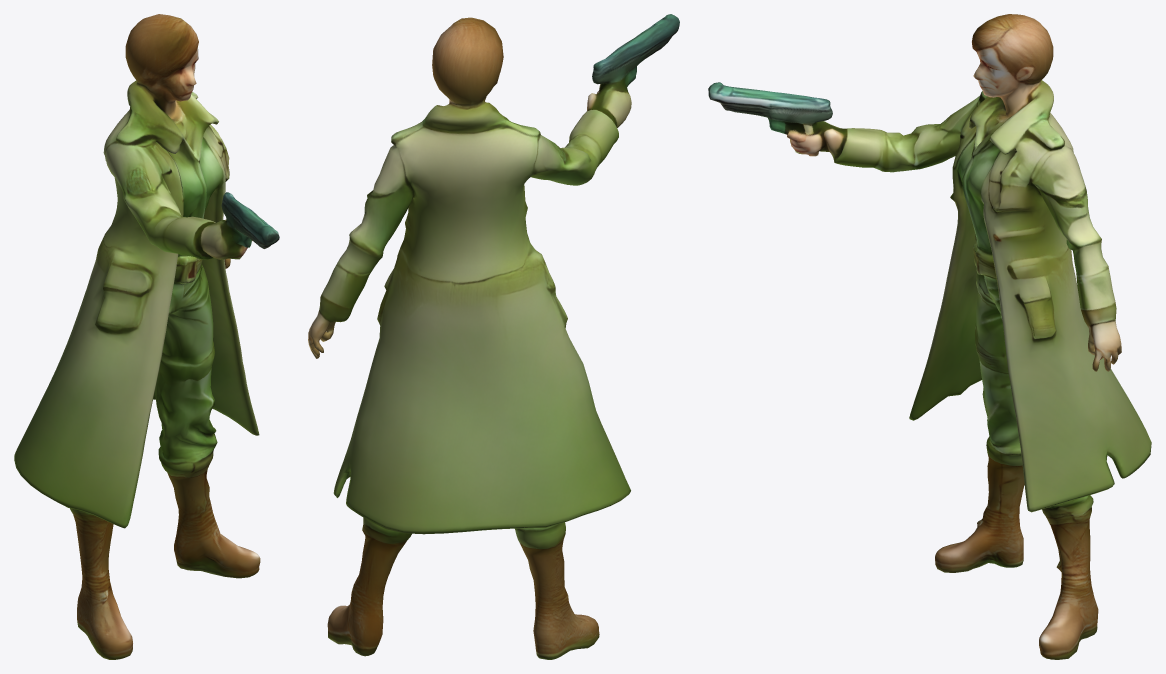
The model's file is vera_raw2.glb.
3 views of the same model, side by side, from view 1: azimuth 30°, elevation 25°; view 2: azimuth 150°, elevation 25°; view 3: azimuth 270°, elevation 25° (orthographic). The views are drawn at different scales.
Parts seen in each view (by area): view 1: model; view 2: model; view 3: model.
Part boxes in pixels (x1,y1,x2,y2): model: (14,14,279,659); model: (308,14,679,659); model: (708,14,1151,659).
Size of the model in its own units: 0.845 by 1.9 by 1.29.
Materials: 1 (1 with a texture image).
